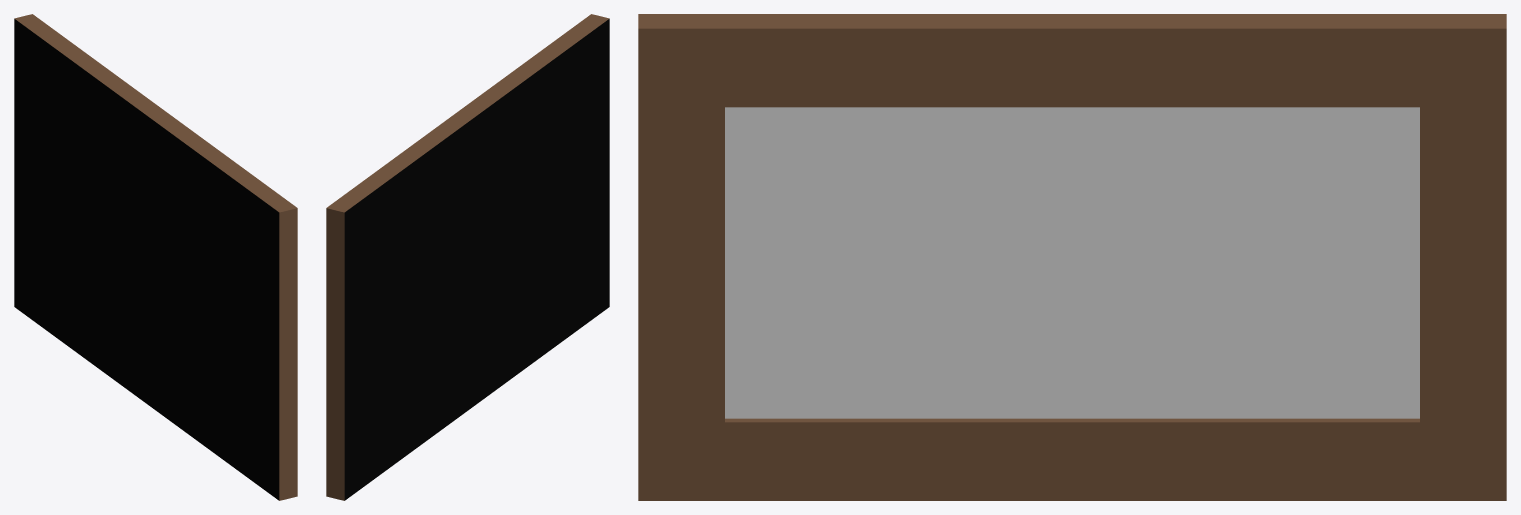
Rendered from PictureFrame1.fbx.
3 views of the same model, side by side, from view 1: azimuth 30°, elevation 25°; view 2: azimuth 150°, elevation 25°; view 3: azimuth 270°, elevation 25° (orthographic). The views are drawn at different scales.
Visible parts, largest first — view 1: Frame; view 2: Frame; view 3: Plane, Frame.
Part boxes in pixels (bbox=[...]): Frame: bbox=[14, 14, 297, 500]; Frame: bbox=[326, 14, 609, 500]; Plane: bbox=[725, 107, 1419, 418]; Frame: bbox=[638, 14, 1506, 500].
Bounding box in the file's own units: 0.24 × 3.6 × 6.
